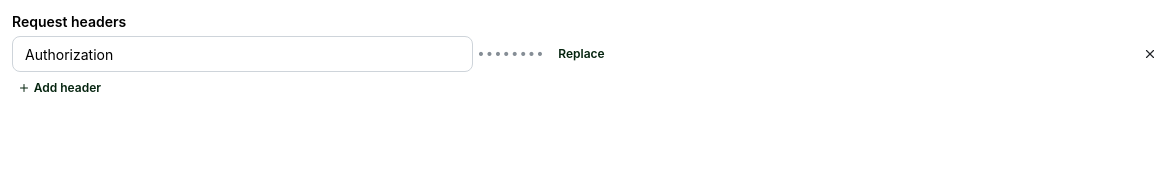
Scenario: HeaderRows › turns a masked row into an editable one once Replace is pressed
Click the button "Replace".
click(581, 54)  # box [550,43,613,65]
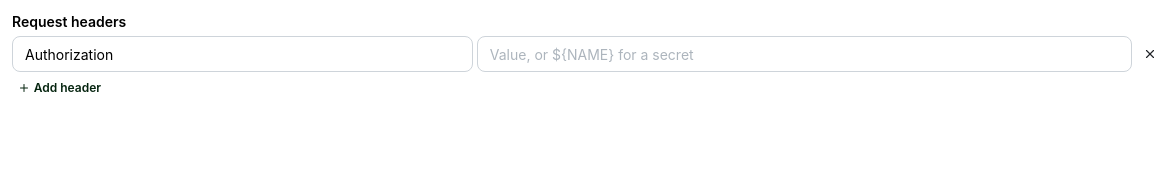
Result: the button "Replace" is gone
Result: the field with placeholder "Value, or ${NAME} for a secret" is shown at [477,36,1132,72]
